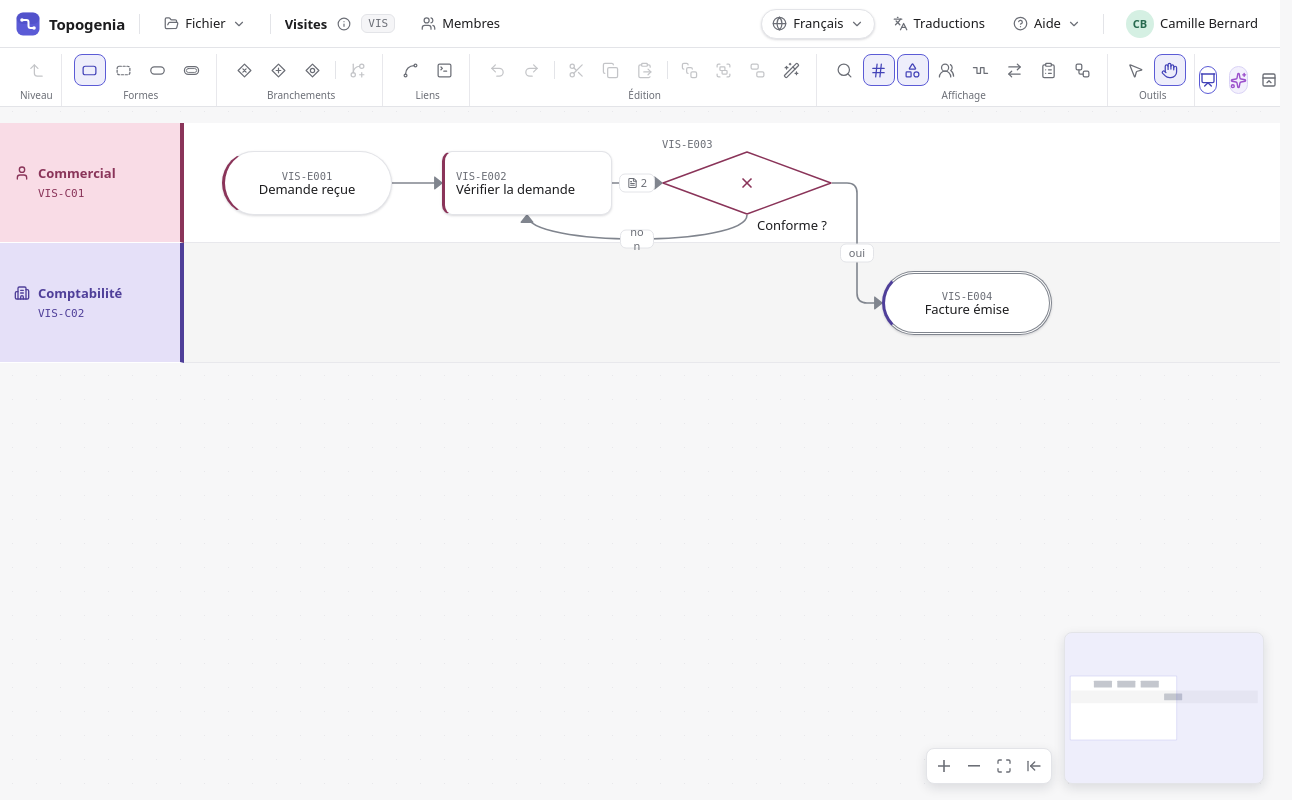
Test: the folder of a document, from the profile to the sheet (ADR 104) › is offered where the application runs on the computer of the user
Click the element showing "VIS-E002 Vérifier la demande" at (527, 183), box [442, 151, 612, 215]
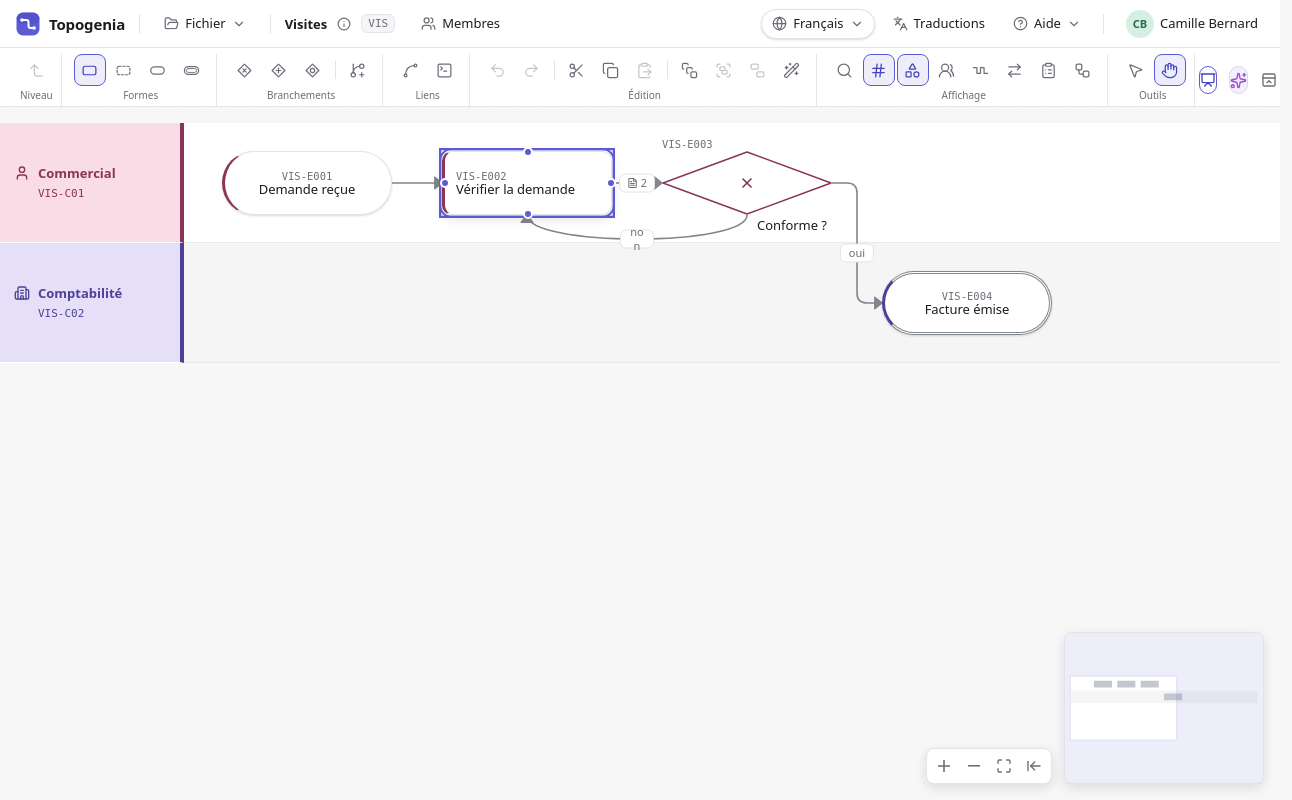
Press Enter in the element showing "VIS-E002 Vérifier la demande", box [442, 151, 612, 215]
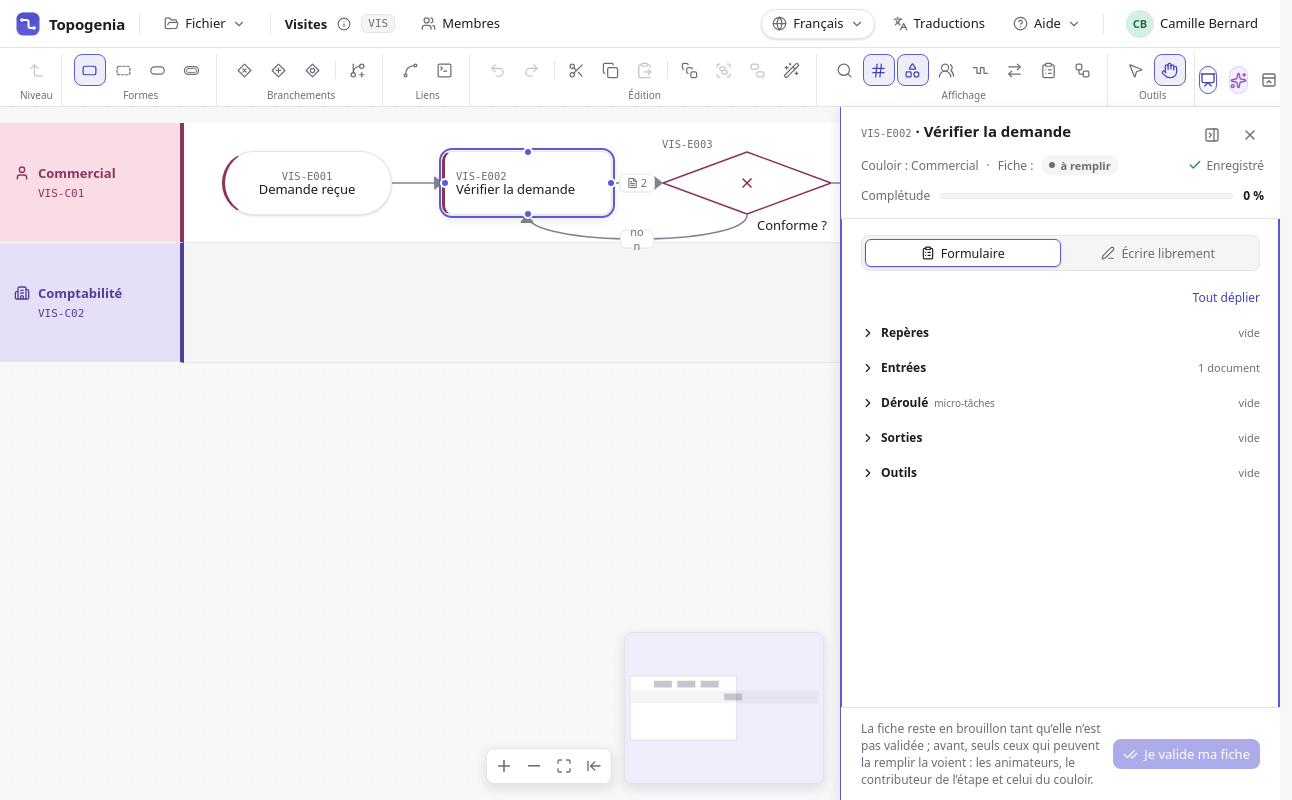
Click the button with test id "sheet-fold-inputs" at (904, 368), box [861, 359, 1260, 376]
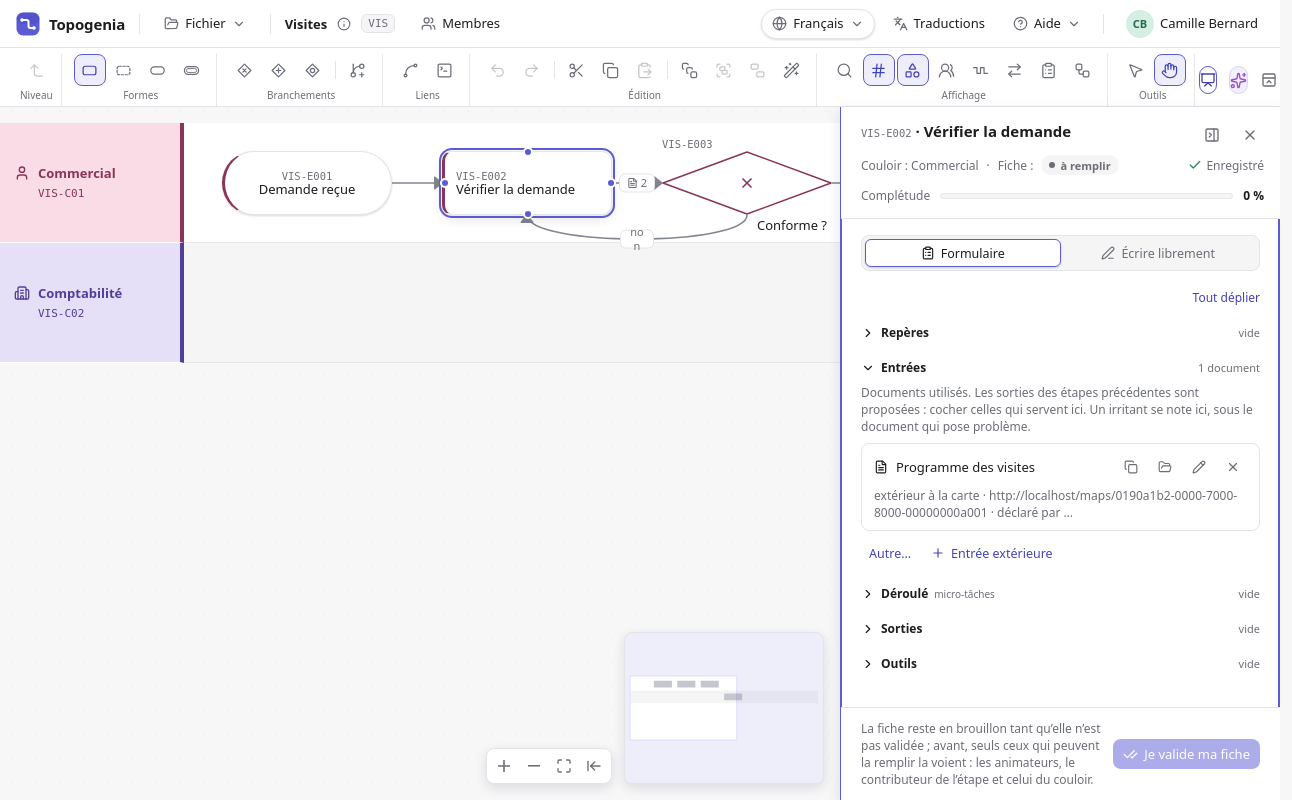
Result: the list item with test id "input-e1" is shown at [861, 443, 1260, 531]
Result: the button named "Ouvrir le dossier de « Programme des visites »" is enabled at [1151, 453, 1179, 481]
Result: the button named "Copier le chemin de « Programme des visites »" is enabled at [1117, 453, 1145, 481]
